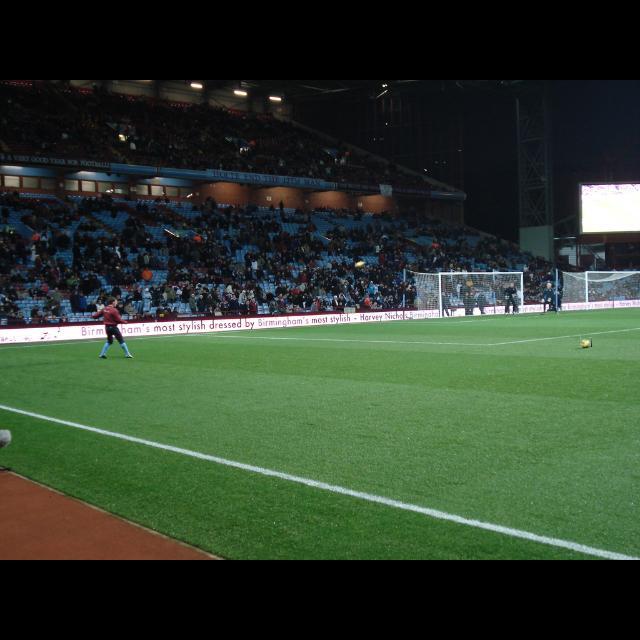Football: (580, 337, 592, 347)
